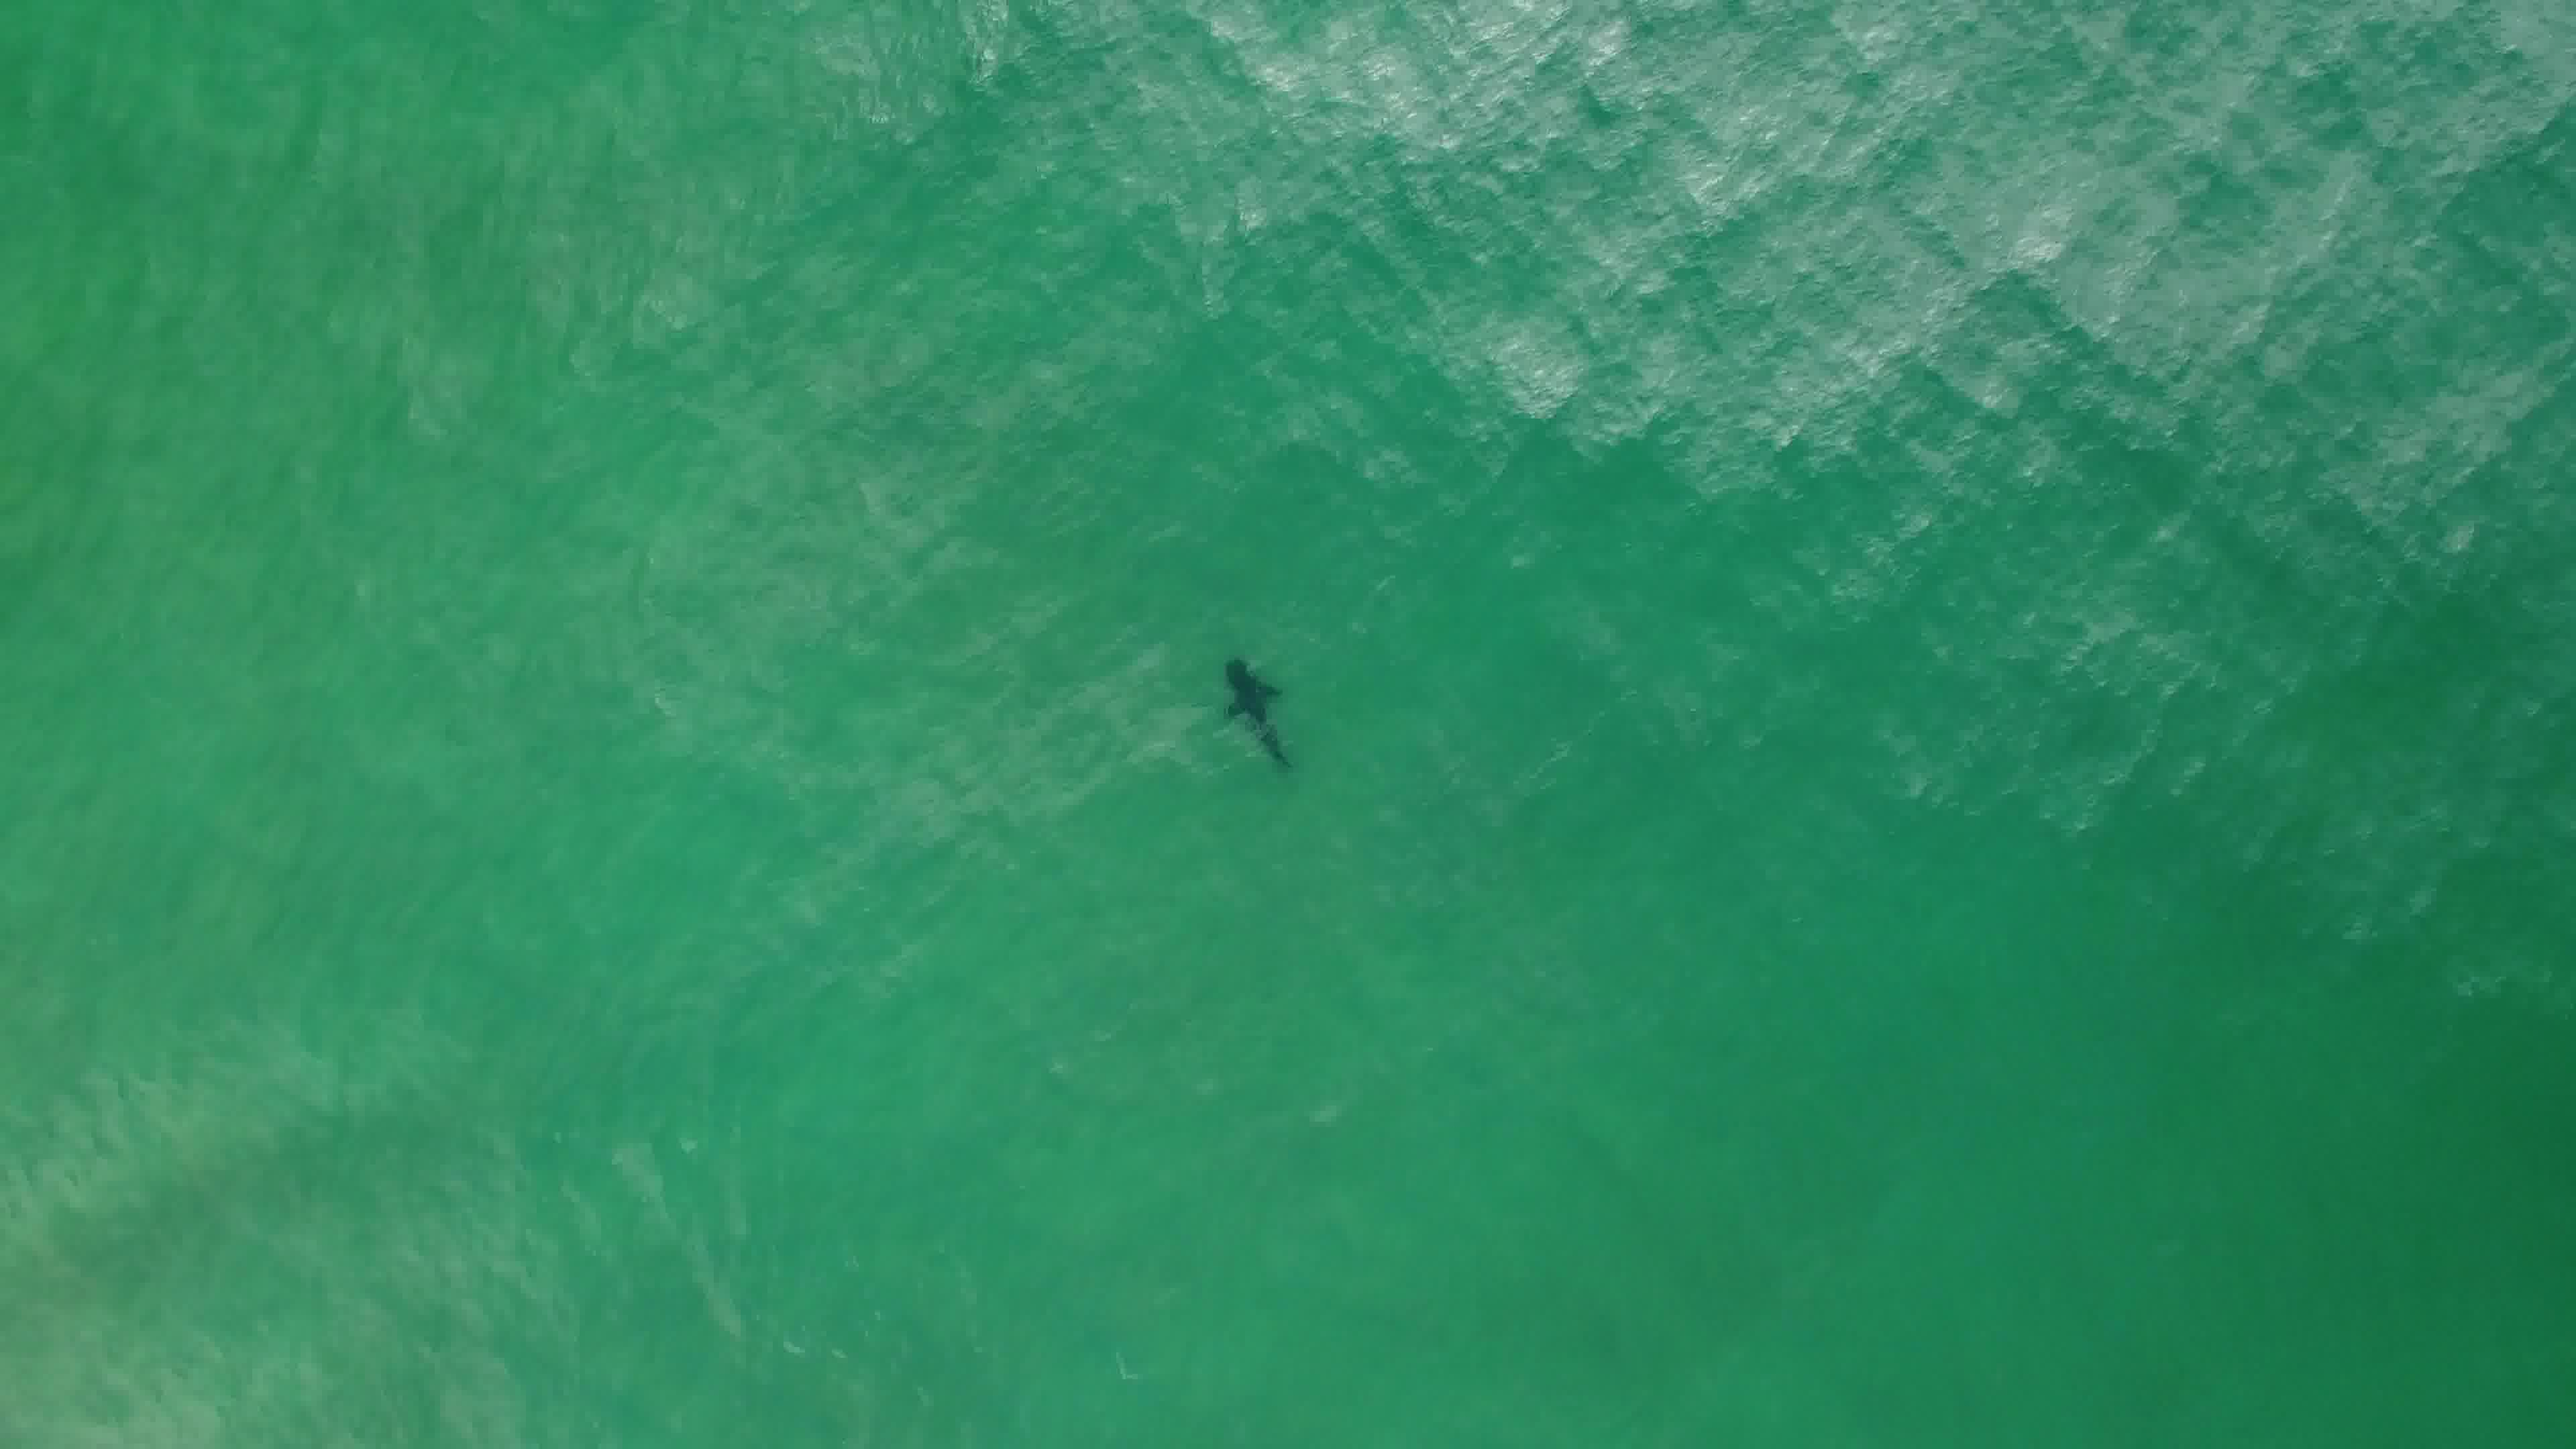shark: (1214, 648, 1300, 782)
